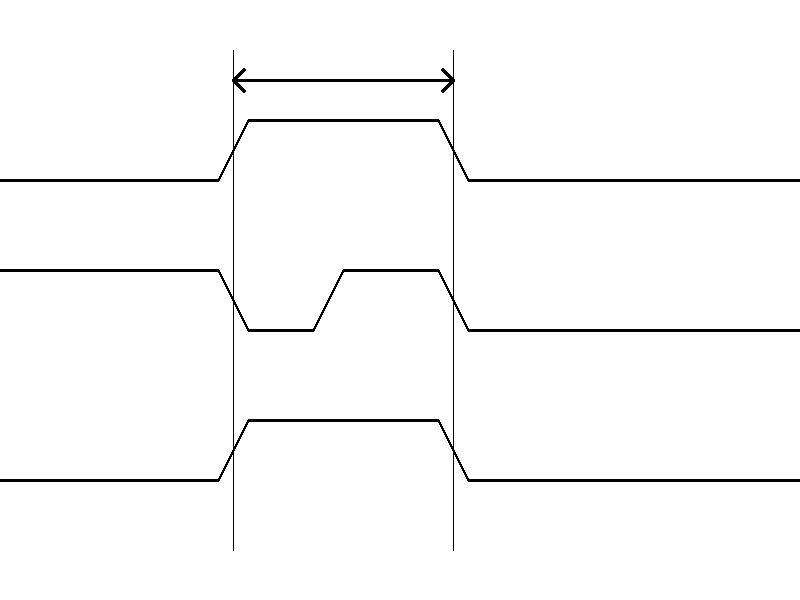double_arrow: (233, 65, 453, 95)
